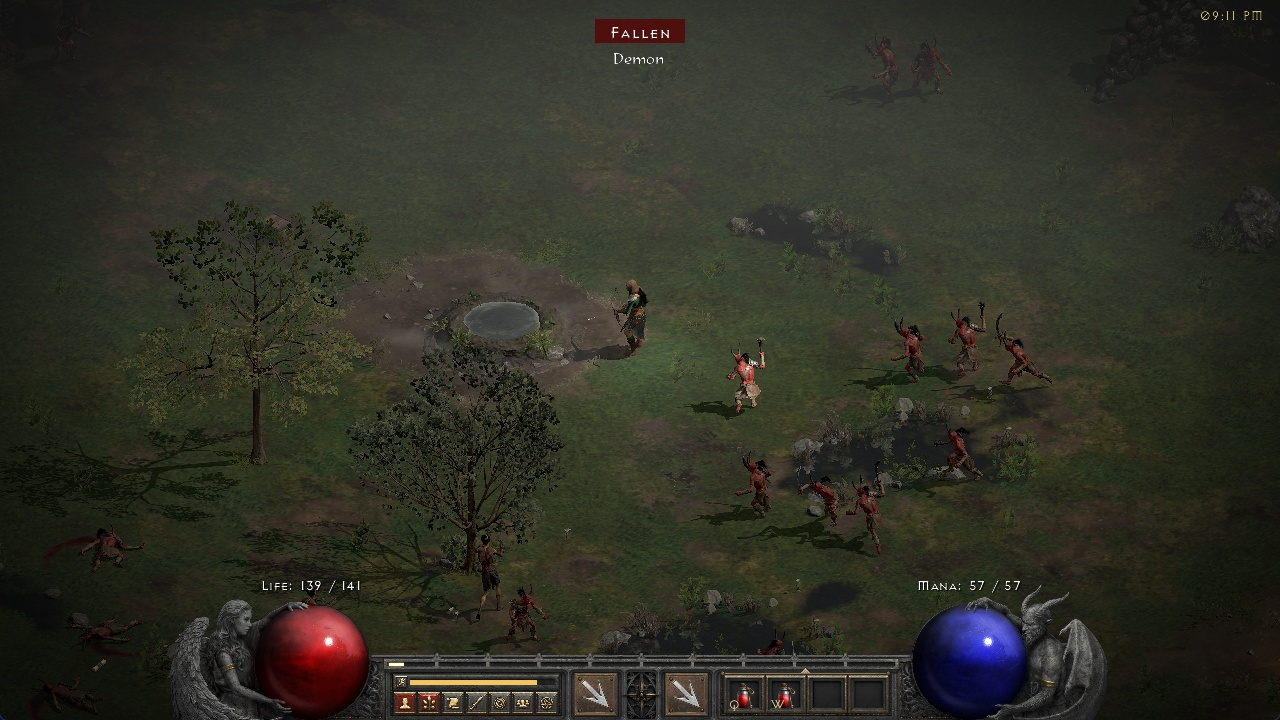fallen: (720, 339, 781, 412), (851, 462, 893, 558), (939, 304, 994, 372), (991, 316, 1044, 385), (735, 448, 776, 524), (885, 318, 928, 385), (934, 422, 985, 478), (864, 34, 901, 101), (502, 585, 546, 641), (803, 474, 844, 532), (910, 45, 955, 89)
